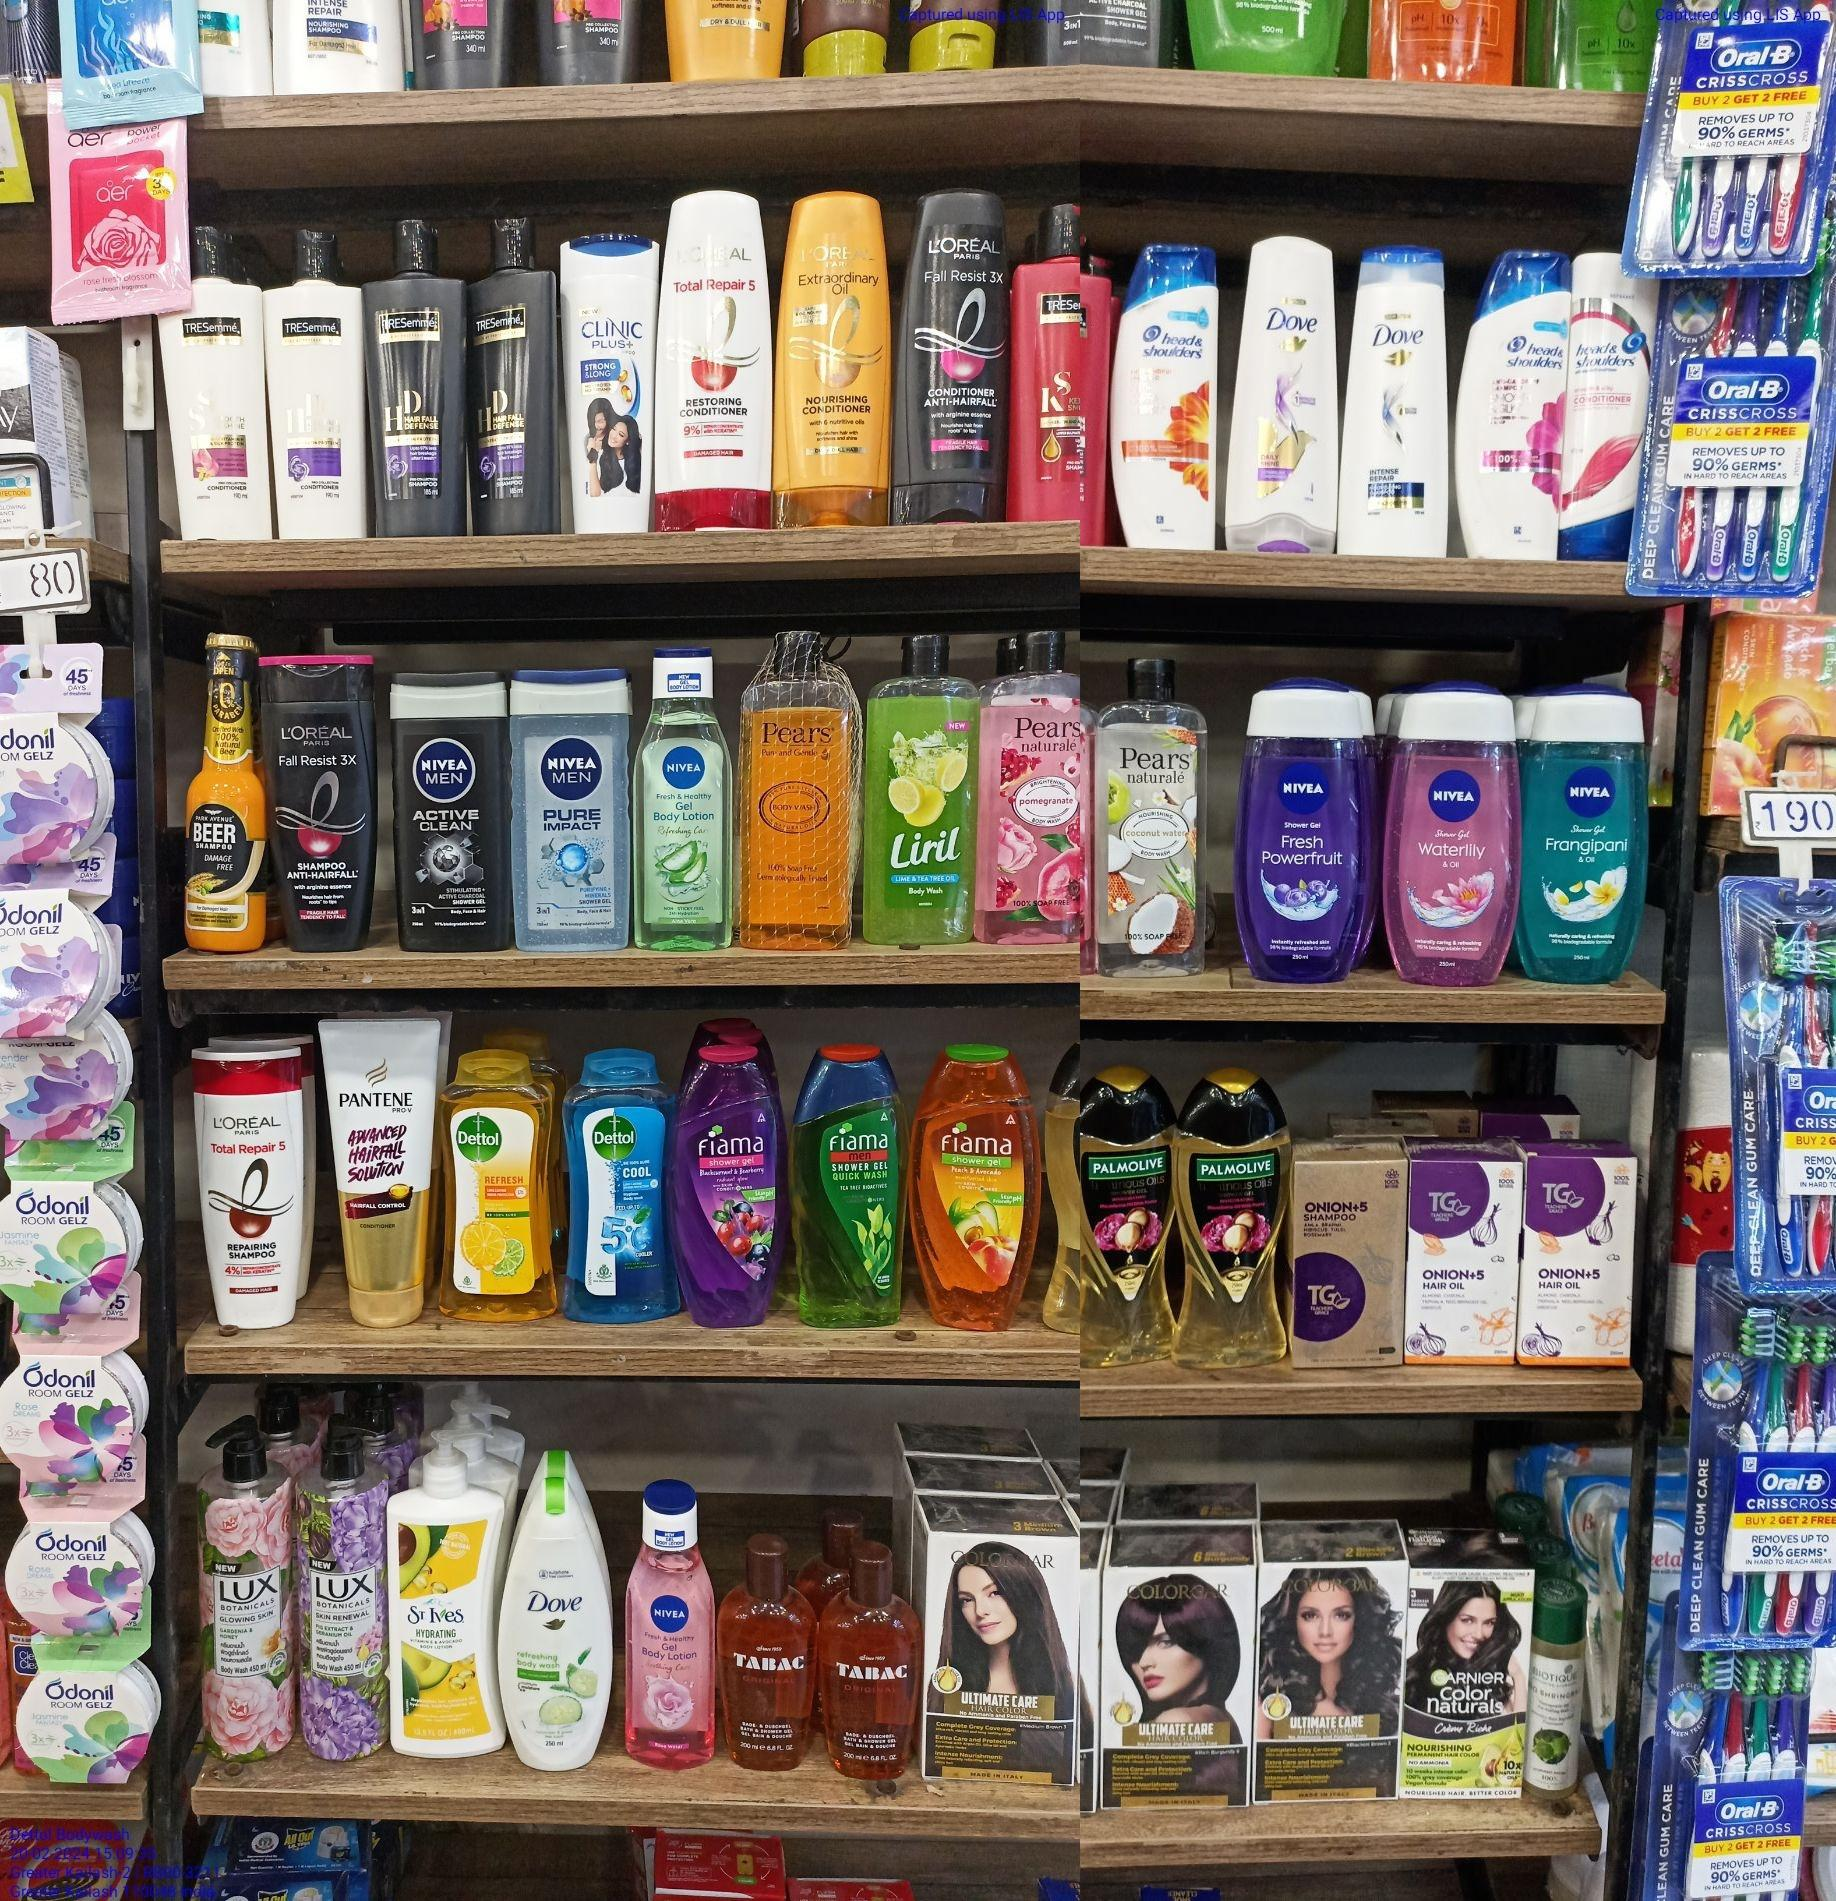Dettol_Bodywash_Cool: (560, 1051, 677, 1321)
Dettol_Bodywash_Refresh: (439, 1042, 550, 1327)
Dove_Refreshing_Body_Wash_250ML: (499, 1475, 614, 1774)
Fiama_Shower_Gel_Peach_and_Avocado_250ML: (915, 1037, 1040, 1327)
Liril_Lime_and_Tea_Tree_Oil_Body_Wash_250ML: (865, 625, 976, 949)
Nivea_Shower_Gel_Frangipani_and_Oil_250ML: (1524, 687, 1648, 978)
Nivea_Shower_Gel_Fresh_Powerfruit_250ML: (1239, 677, 1373, 983)
Nivea_Shower_Gel_Waterlily_and_Oil_250ML: (1383, 682, 1519, 981)
Palmolive_Luminous_Oils_Invigorating_Macadamia_Oil_With_Peony_250ML: (1173, 1063, 1286, 1368), (1083, 1068, 1164, 1373)
